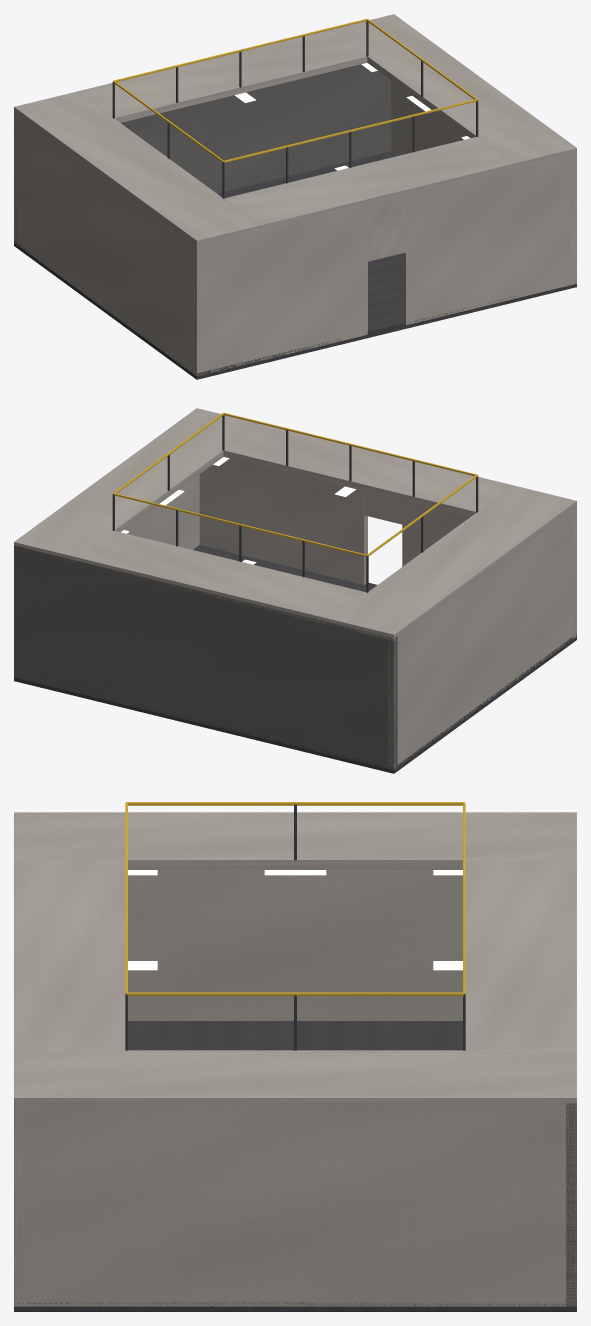
The model's file is launch_control_room_shell.glb.
3 renders of one model, top to bottom at view 1: azimuth 30°, elevation 25°; view 2: azimuth 150°, elevation 25°; view 3: azimuth 270°, elevation 25°, orthographic. The views are drawn at different scales.
Visible parts, largest first — view 1: side_wall.006, front_wall, front_wall.001, display_wall, upper_gallery_side, upper_gallery_side.001, upper_gallery_end.001, upper_gallery_end, floor.006, side_wall.007, door_header, gallery_rail.002 (+1 smaller); view 2: display_wall, side_wall.006, front_wall.001, upper_gallery_side, upper_gallery_side.001, upper_gallery_end.001, upper_gallery_end, floor.006, side_wall.007, front_wall, door_header, gallery_rail.003 (+1 smaller); view 3: side_wall.007, side_wall.006, upper_gallery_side.001, upper_gallery_side, upper_gallery_end, upper_gallery_end.001, floor.006, display_wall, front_wall.001, gallery_rail.001, gallery_rail.
Part boxes in pixels (<box>): side_wall.006: <box>14,110,202,375</box>; front_wall: <box>193,202,367,375</box>; front_wall.001: <box>402,154,576,325</box>; display_wall: <box>14,64,391,243</box>; upper_gallery_side: <box>14,91,259,246</box>; upper_gallery_side.001: <box>331,14,576,169</box>; upper_gallery_end.001: <box>77,30,367,122</box>; upper_gallery_end: <box>224,137,513,231</box>; floor.006: <box>14,151,576,379</box>; side_wall.007: <box>391,80,575,284</box>; door_header: <box>368,193,405,261</box>; gallery_rail.002: <box>223,99,477,162</box>; display_wall: <box>14,545,397,770</box>; side_wall.006: <box>388,507,576,769</box>; front_wall.001: <box>199,458,367,584</box>; upper_gallery_side: <box>331,485,576,640</box>; upper_gallery_side.001: <box>14,408,259,563</box>; upper_gallery_end.001: <box>77,531,366,625</box>; upper_gallery_end: <box>223,424,513,516</box>; floor.006: <box>14,545,576,773</box>; side_wall.007: <box>19,474,199,603</box>; front_wall: <box>402,500,576,638</box>; door_header: <box>364,491,402,524</box>; gallery_rail.003: <box>113,493,367,556</box>; side_wall.007: <box>14,1103,576,1306</box>; side_wall.006: <box>128,870,462,1020</box>; upper_gallery_side.001: <box>14,1050,576,1107</box>; upper_gallery_side: <box>14,812,576,869</box>; upper_gallery_end: <box>14,860,125,1050</box>; upper_gallery_end.001: <box>465,860,576,1050</box>; floor.006: <box>14,1021,576,1311</box>; display_wall: <box>566,1103,576,1306</box>; front_wall.001: <box>14,1103,24,1306</box>; gallery_rail.001: <box>126,992,464,995</box>; gallery_rail: <box>126,802,464,805</box>.
Bounding box in the file's own units: 12 × 5.33 × 10.
5 materials, 4 textured.
